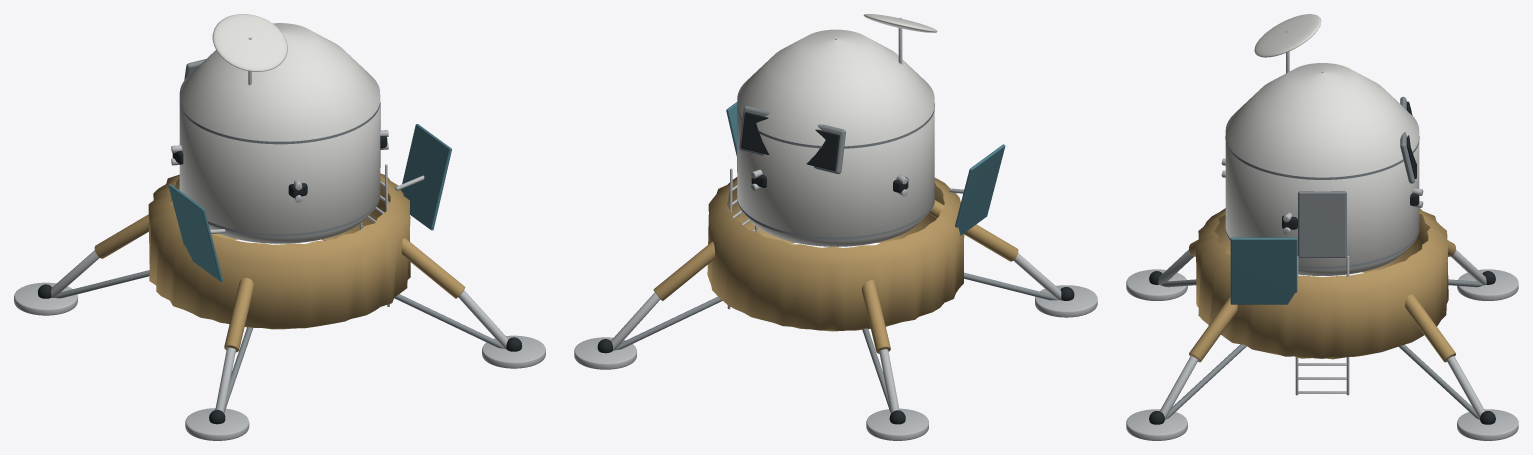
Rendered from lunar-lander.glb.
The picture shows the model from 3 angles, left to right: view 1: azimuth 30°, elevation 25°; view 2: azimuth 150°, elevation 25°; view 3: azimuth 270°, elevation 25°; orthographic projection. The views are drawn at different scales.
Visible parts, largest first — view 1: Lander_Lander ceramic shell, Lander_Gold multilayer thermal blanket, Lander_Brushed stainless steel, Lander_Switch muted blue, Lander_Machined anodized edges, Lander_Elastomer seals; view 2: Lander_Lander ceramic shell, Lander_Gold multilayer thermal blanket, Lander_Brushed stainless steel, Lander_Machined anodized edges, Lander_Switch muted blue, Lander_Elastomer seals; view 3: Lander_Lander ceramic shell, Lander_Gold multilayer thermal blanket, Lander_Brushed stainless steel, Lander_Machined anodized edges, Lander_Switch muted blue, Lander_Elastomer seals.
Boxes of the visible parts, x1,y1,x2,y2 form: Lander_Lander ceramic shell: (179, 14, 380, 243); Lander_Gold multilayer thermal blanket: (94, 173, 465, 352); Lander_Brushed stainless steel: (14, 37, 545, 440); Lander_Switch muted blue: (168, 124, 451, 281); Lander_Machined anodized edges: (53, 59, 504, 413); Lander_Elastomer seals: (37, 136, 521, 424); Lander_Lander ceramic shell: (737, 14, 937, 246); Lander_Gold multilayer thermal blanket: (653, 177, 1018, 353); Lander_Brushed stainless steel: (574, 17, 1097, 440); Lander_Machined anodized edges: (615, 103, 1058, 413); Lander_Switch muted blue: (726, 102, 1005, 235); Lander_Elastomer seals: (597, 112, 1074, 424); Lander_Lander ceramic shell: (1225, 14, 1419, 275); Lander_Gold multilayer thermal blanket: (1189, 208, 1455, 362); Lander_Brushed stainless steel: (1126, 30, 1518, 440); Lander_Machined anodized edges: (1161, 96, 1483, 419); Lander_Switch muted blue: (1230, 237, 1297, 304); Lander_Elastomer seals: (1149, 101, 1495, 424).
Size of the model in its own units: 7.38 by 6.54 by 7.38.
